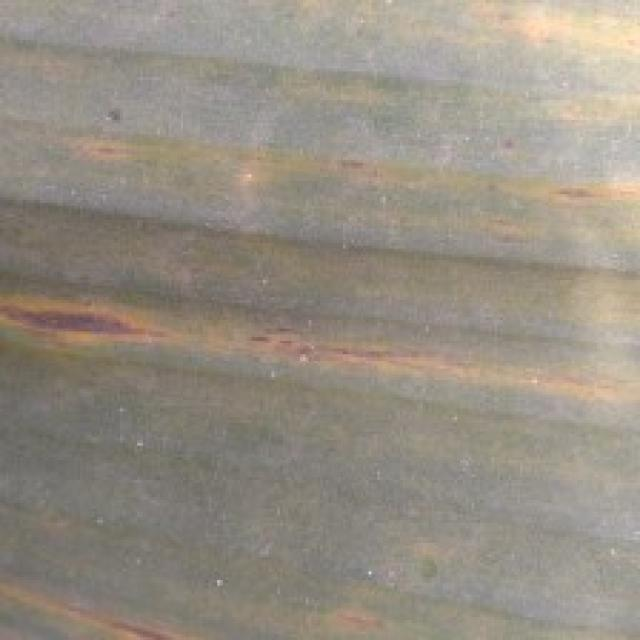Early_leaf_spot: (212, 313, 518, 408), (462, 0, 640, 150), (0, 266, 195, 384), (0, 549, 197, 640), (505, 170, 640, 254), (6, 113, 149, 186), (320, 124, 434, 202), (303, 594, 400, 640)
